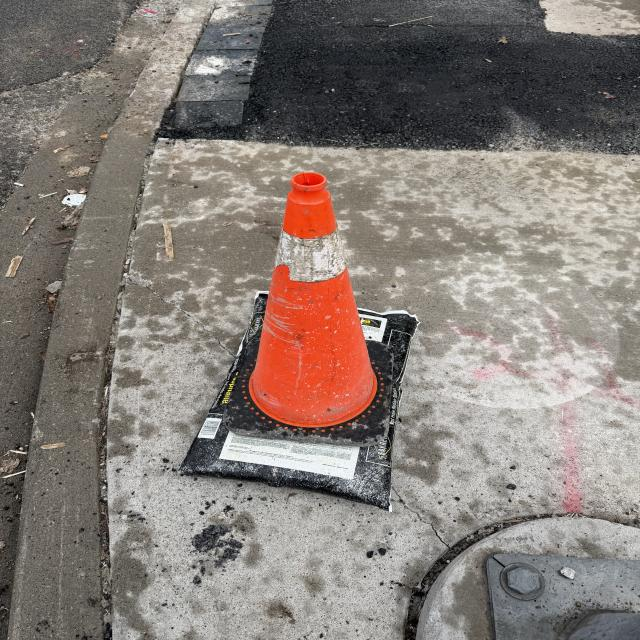Traffic Cone: (226, 171, 394, 439)
